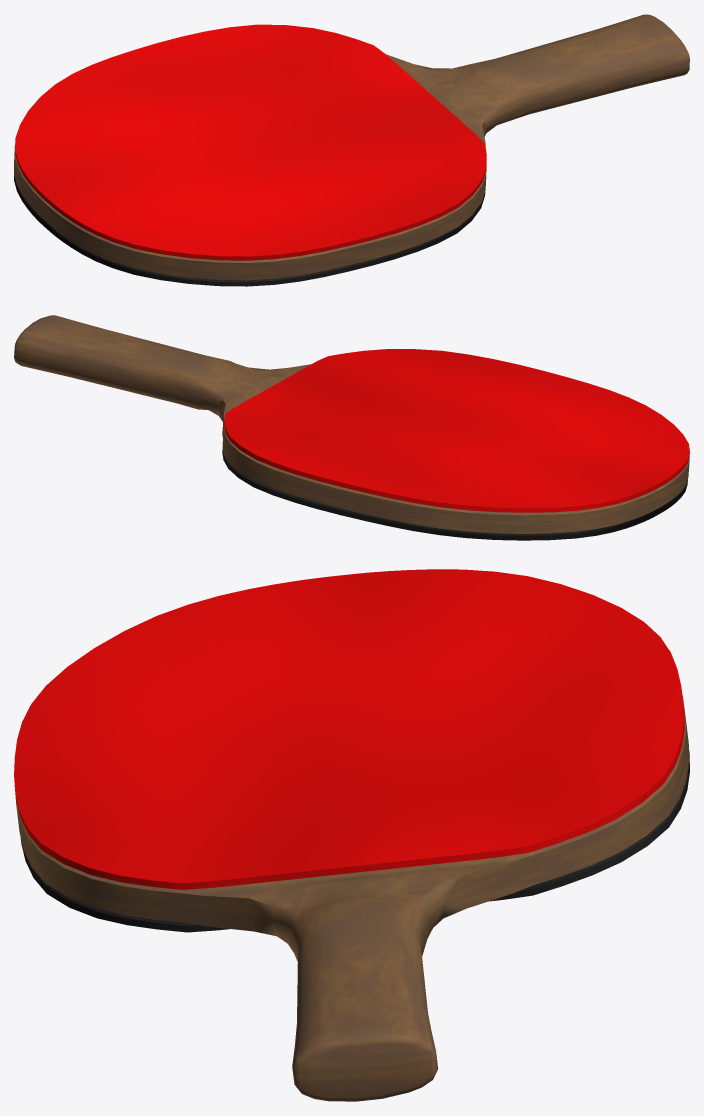
The model's file is paddle1.glb.
The picture shows the model from 3 angles, top to bottom: view 1: azimuth 30°, elevation 25°; view 2: azimuth 150°, elevation 25°; view 3: azimuth 270°, elevation 25°; orthographic projection. The views are drawn at different scales.
Visible parts, largest first — view 1: bat2; view 2: bat2; view 3: bat2.
Boxes of the visible parts, box(x1,y1,x2,y2) form: bat2: box(14, 14, 689, 286); bat2: box(14, 315, 689, 540); bat2: box(14, 569, 689, 1101).
Size of the model in its own units: 4.42 by 0.4979 by 2.57.
Materials: 1 (1 with a texture image).
